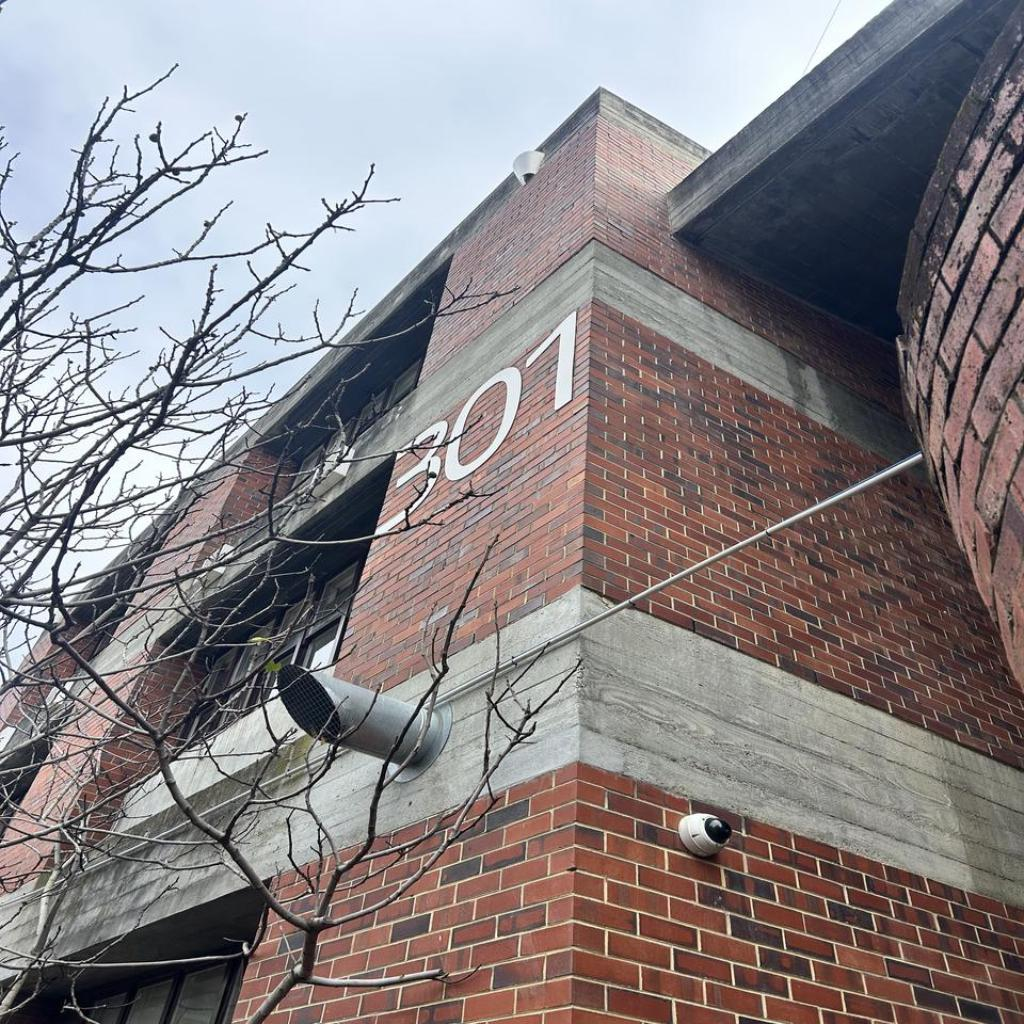BuildingCodes: (368, 300, 584, 548)
